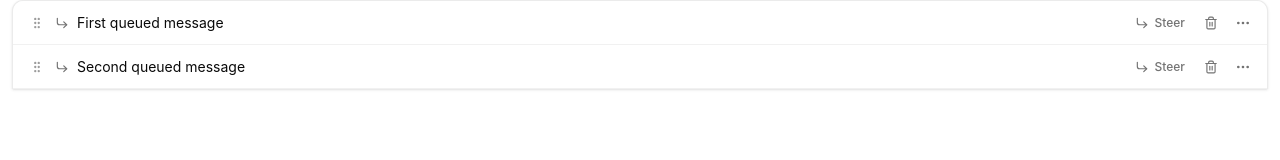
Scenario: TaskChatQueuedMessages › promotes only the selected steering row immediately
Click the button with test id "task-chat-queued-steer-comment-1" at (1160, 22), box [1126,8,1193,36]
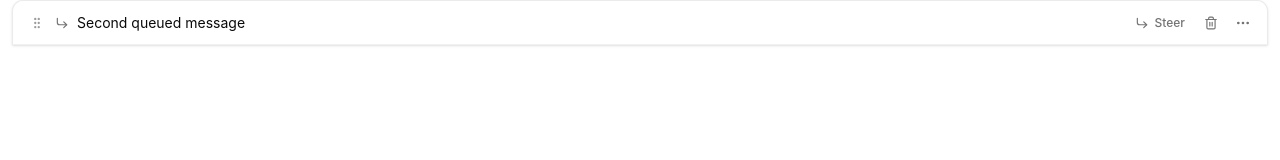
Check: the element with test id "task-chat-queued-message-comment-2" is shown, box [13,1,1267,45]
Check: the element with test id "task-chat-queued-message-comment-1" is gone
